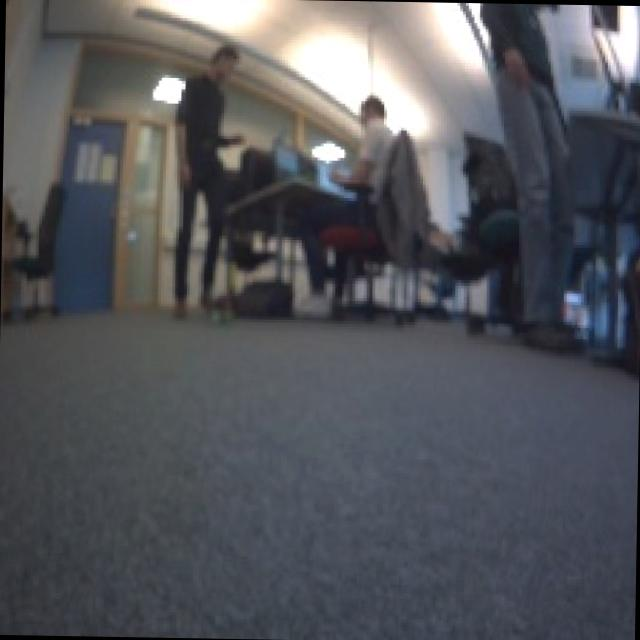robot: (202, 290, 238, 326)
